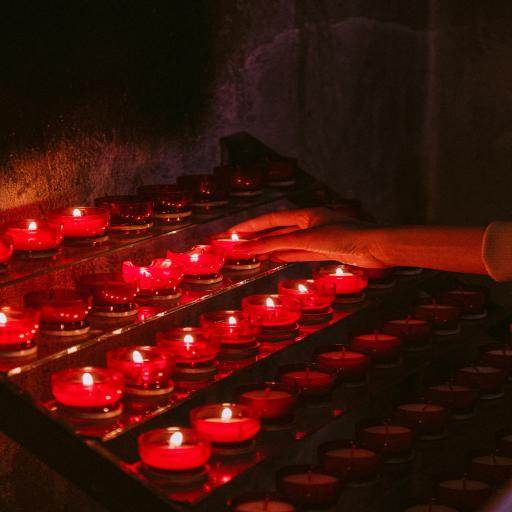candlelight: (178, 400, 269, 450), (134, 418, 220, 470), (98, 342, 184, 390), (220, 290, 314, 332), (50, 365, 126, 408), (159, 325, 230, 371), (194, 309, 274, 349), (116, 257, 190, 295), (162, 234, 224, 278), (202, 229, 276, 264), (8, 210, 68, 253), (276, 281, 352, 314), (47, 201, 112, 238), (312, 258, 368, 299), (0, 300, 39, 354)
